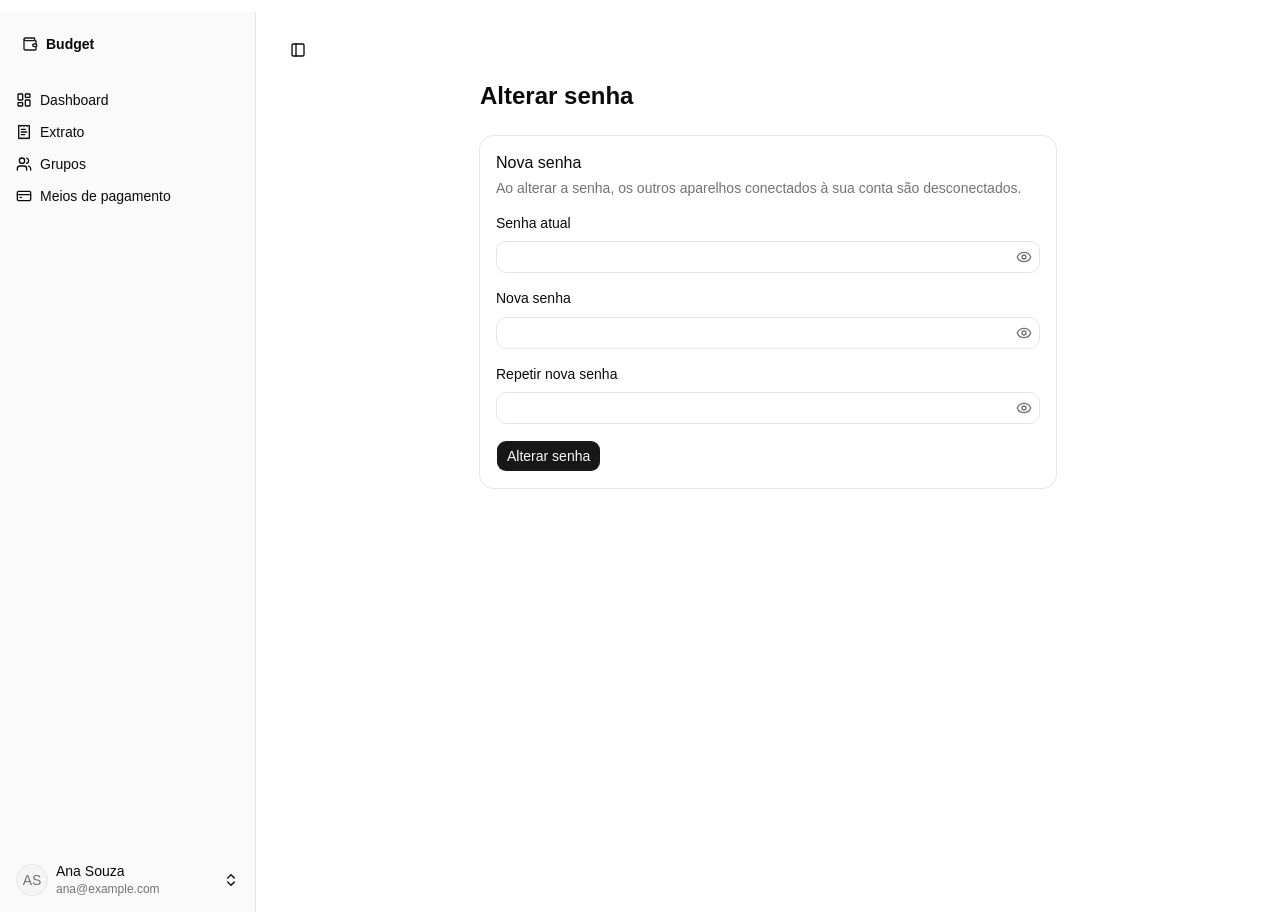
Agentes de IA route (/settings/agents) › opens from the account menu
The image size is (1280, 912).
What coordinates should you click on to do the following:
click the button with aria-label "Menu da conta de Ana Souza"
I would click on:
 (128, 880)
Its box is [8,856,247,904].
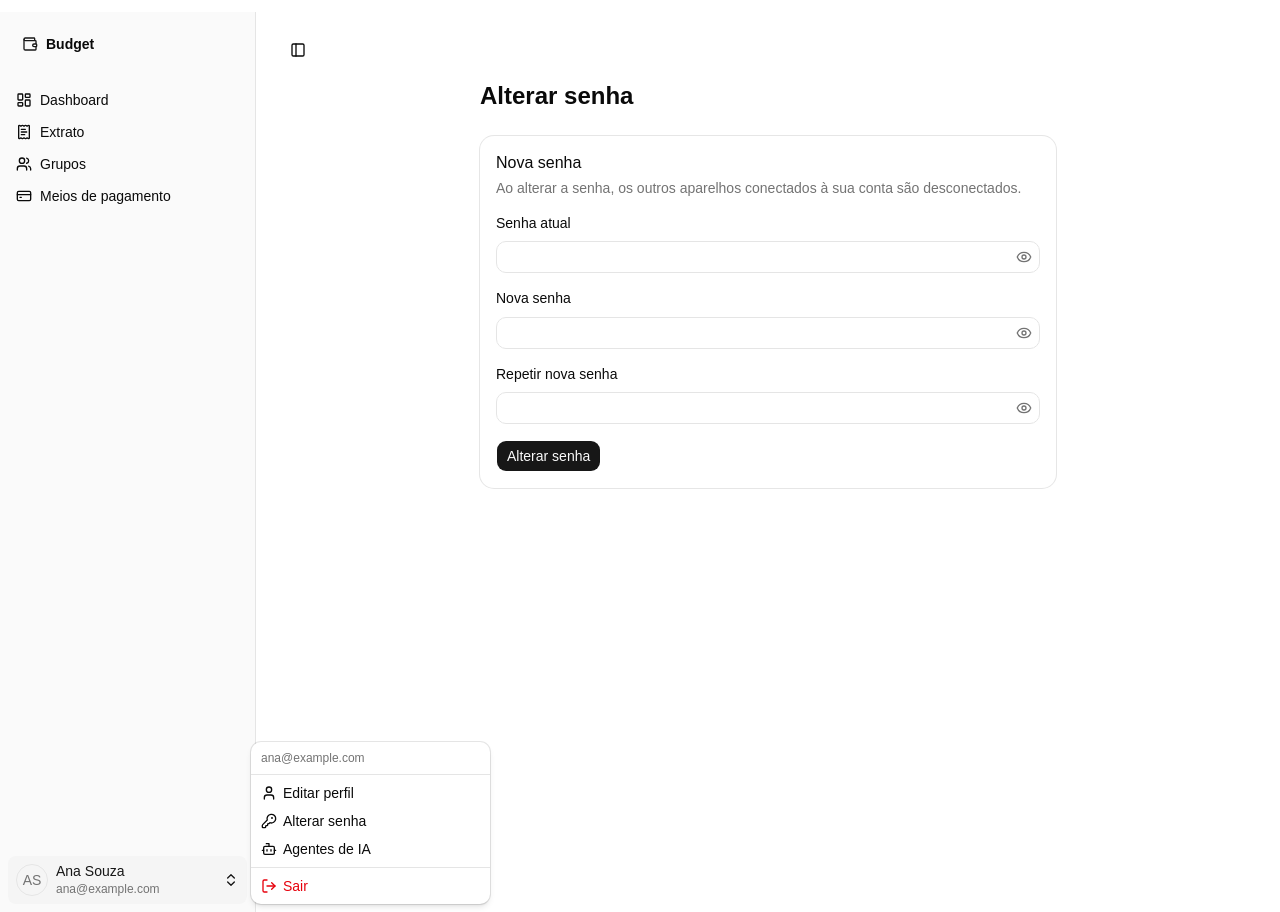
What coordinates should you click on to do the following:
click the menu item "Agentes de IA"
I would click on:
 (316, 849)
Its box is [261,841,371,857].
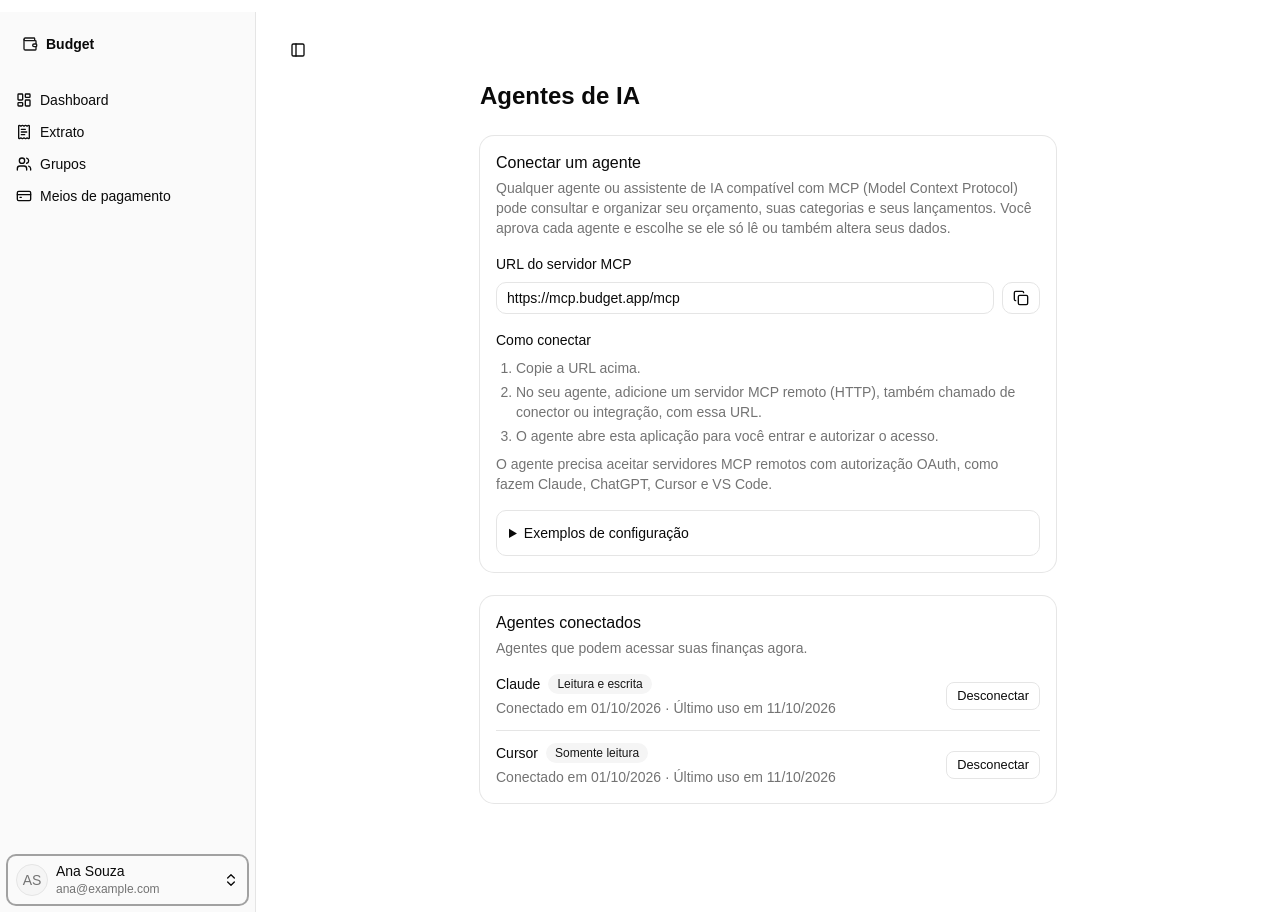
Check: the heading "Agentes de IA" is shown, box [480,82,640,109]
